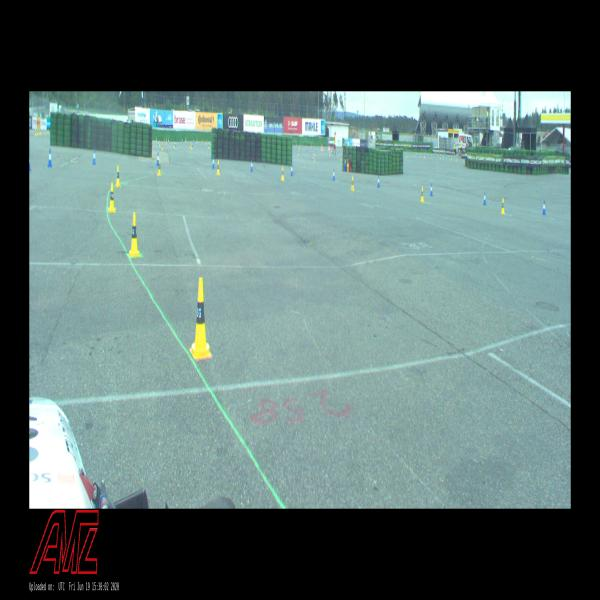blue_cone: (48, 150, 52, 166), (92, 149, 96, 164), (542, 200, 546, 215), (290, 164, 294, 175), (156, 152, 159, 165), (483, 192, 486, 205), (212, 157, 215, 168), (250, 160, 253, 171), (377, 176, 380, 187), (30, 154, 32, 170), (332, 170, 335, 180), (430, 183, 432, 195), (192, 142, 194, 148)
yellow_cone: (191, 278, 210, 355), (128, 213, 140, 257), (108, 183, 116, 211), (115, 165, 119, 187), (501, 198, 505, 214), (216, 160, 220, 175), (420, 187, 424, 202), (158, 160, 161, 176), (351, 176, 354, 191), (282, 167, 284, 180), (174, 142, 176, 148), (340, 154, 342, 160), (208, 144, 210, 149), (190, 142, 191, 148), (162, 144, 163, 149)
